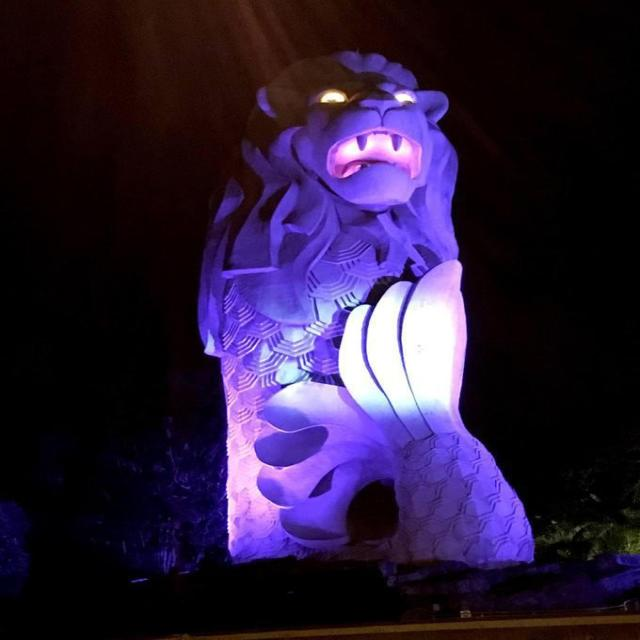other: (320, 289, 484, 404), (286, 74, 438, 175)
